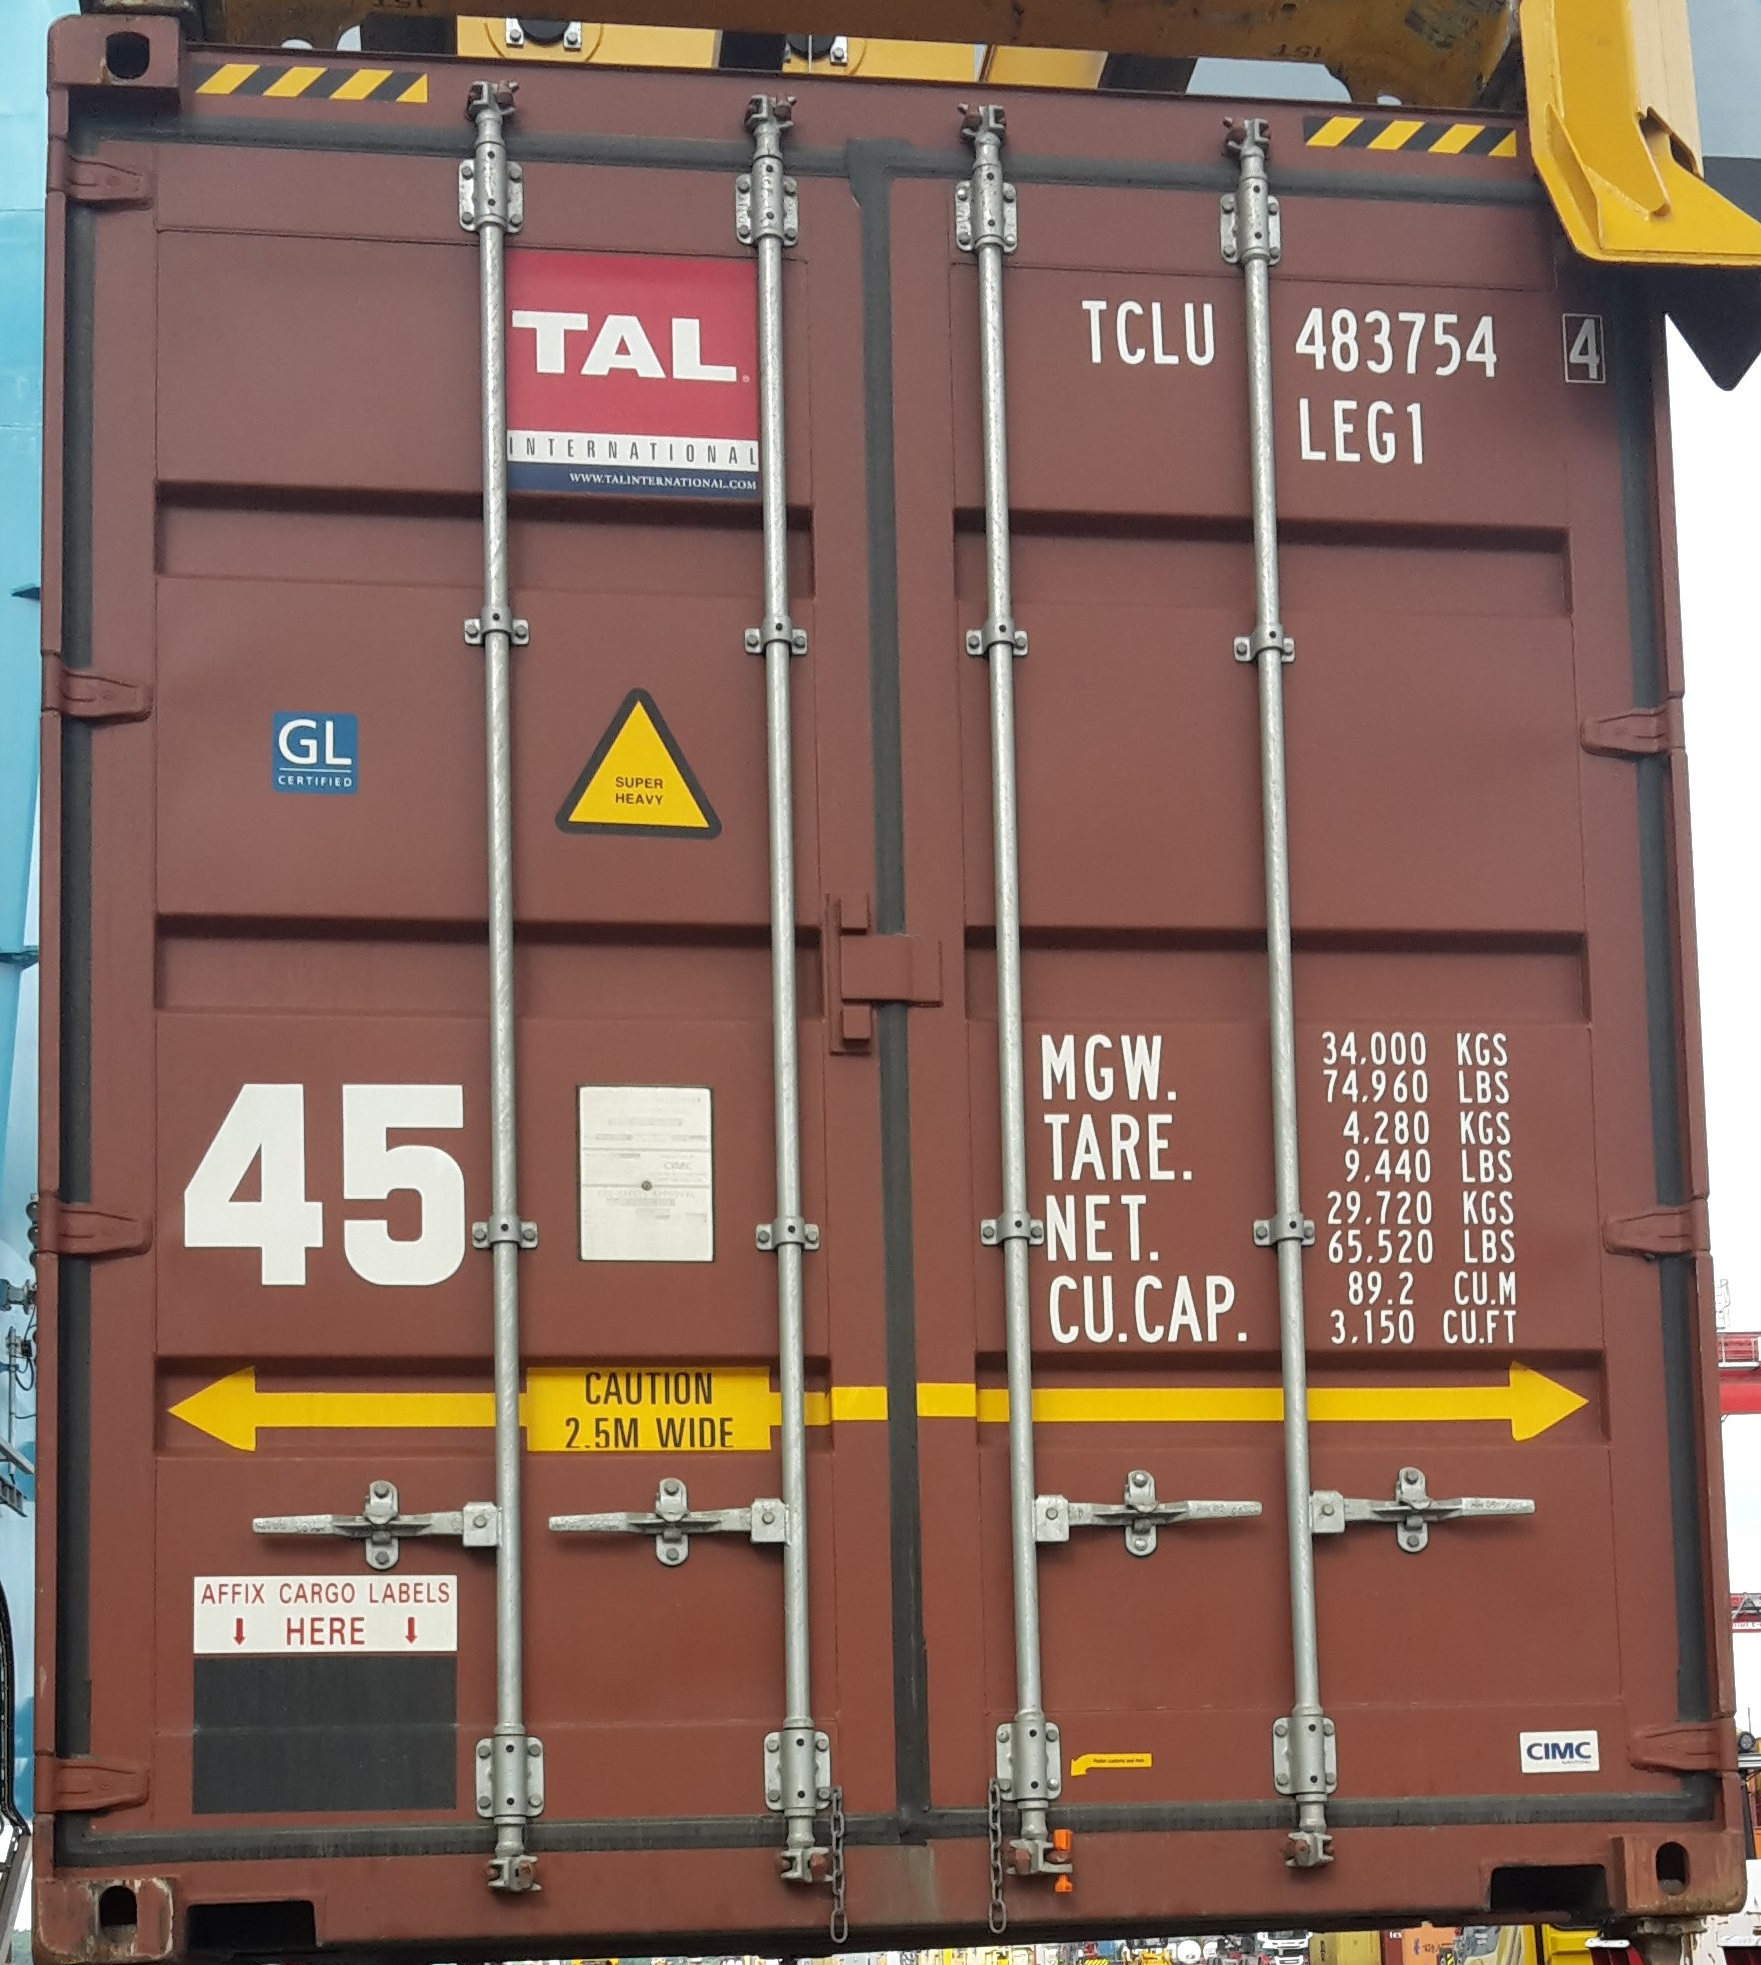container_door: (12, 22, 1707, 1957)
